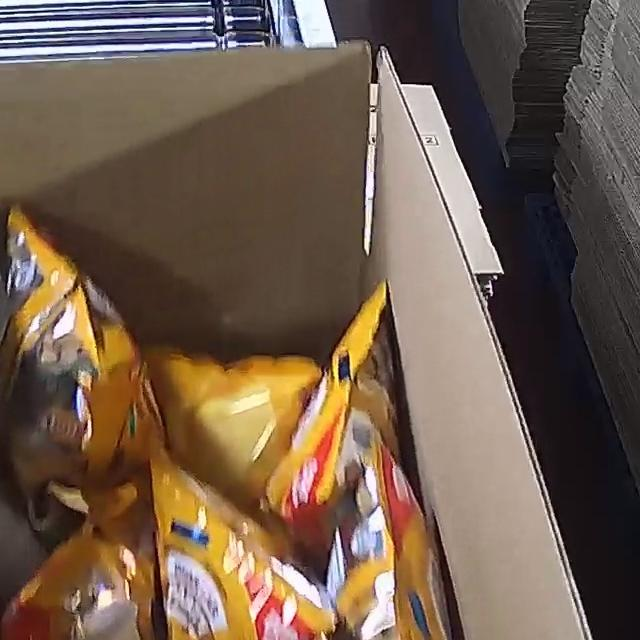cheese: (0, 205, 502, 640)
